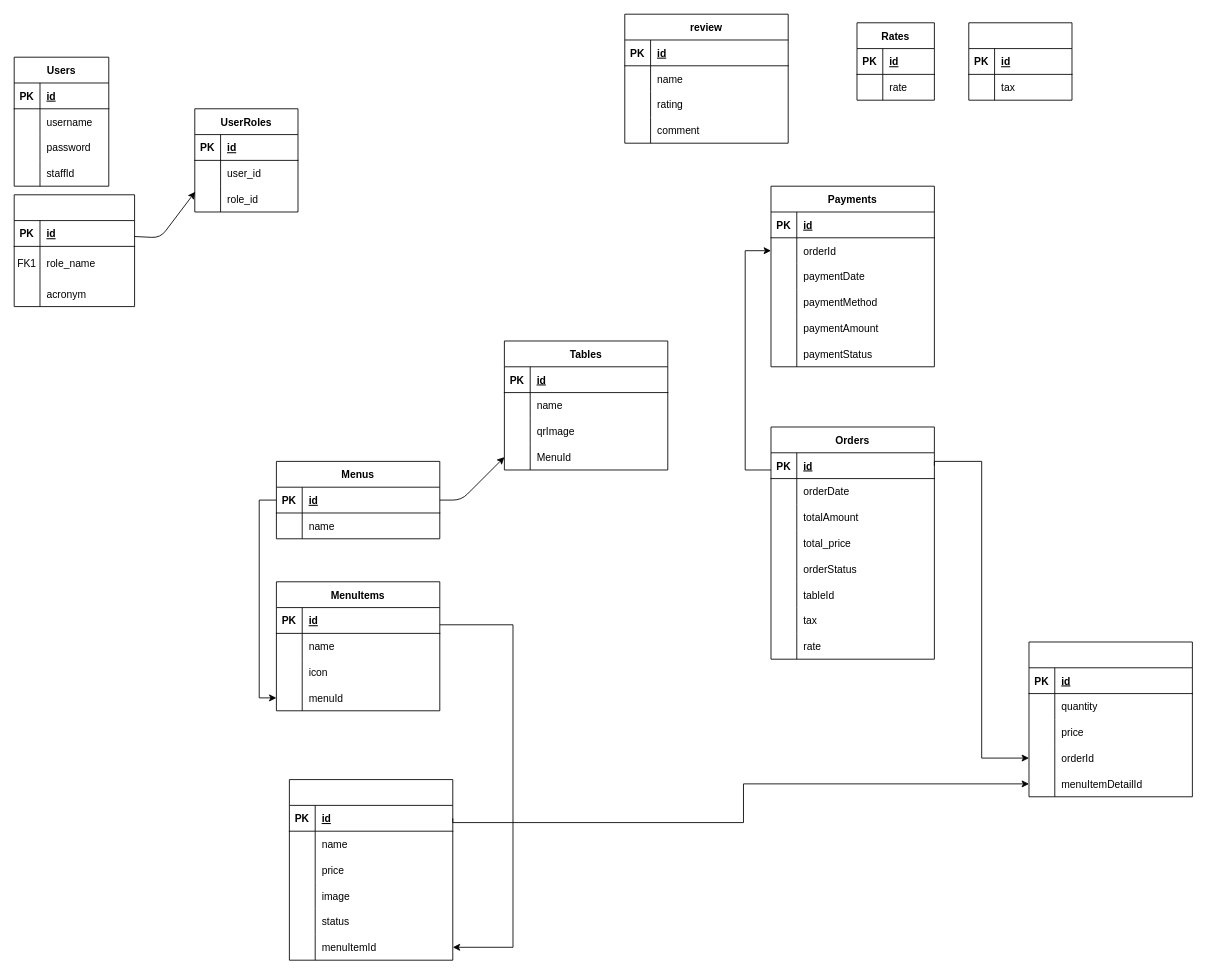
This 1207x974 diagram has some shape labels left out. The box of each missing label's shape, as (x1, y1, x2, y2) in pixels:
MenuItemDetails: (289, 779, 453, 960)
OrderDetails: (1028, 641, 1192, 797)
Roles: (13, 194, 135, 307)
Taxes: (968, 22, 1072, 100)
